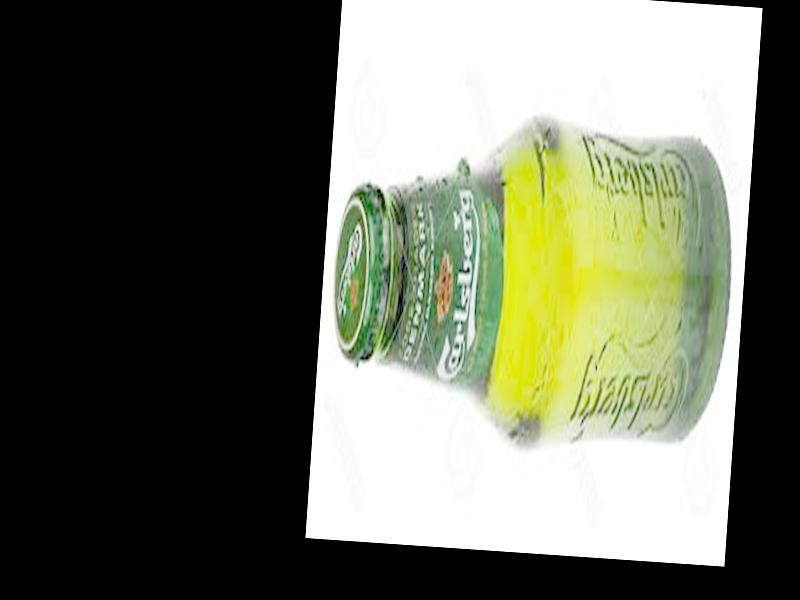Beer: (322, 105, 742, 464)
